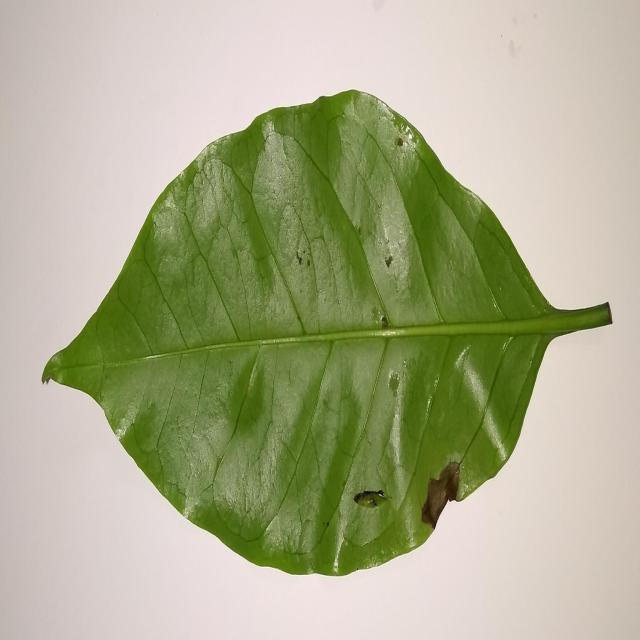Enfermedad-Antracnosis: (40, 90, 613, 580)
